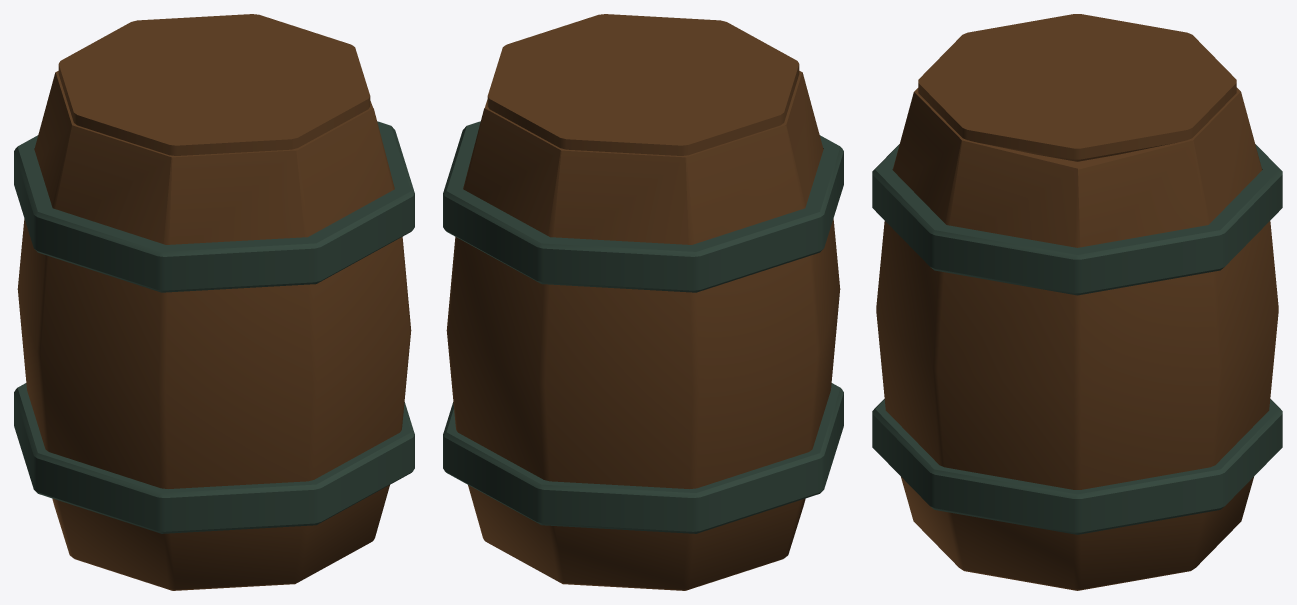
The picture shows the model from 3 angles, left to right: view 1: azimuth 30°, elevation 25°; view 2: azimuth 150°, elevation 25°; view 3: azimuth 270°, elevation 25°; orthographic projection.
Visible parts, largest first — view 1: PT-wood_mid, PT-bronze_dark; view 2: PT-wood_mid, PT-bronze_dark; view 3: PT-wood_mid, PT-bronze_dark.
Part boxes in pixels (bbox=[...]): PT-wood_mid: bbox=[17, 14, 411, 590]; PT-bronze_dark: bbox=[14, 121, 414, 533]; PT-wood_mid: bbox=[446, 14, 840, 590]; PT-bronze_dark: bbox=[443, 121, 843, 533]; PT-wood_mid: bbox=[876, 14, 1278, 590]; PT-bronze_dark: bbox=[872, 144, 1282, 534].
Bounding box in the file's own units: 0.6434 × 0.8103 × 0.6434.
